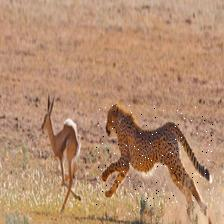Cheetha: (94, 106, 213, 210)
